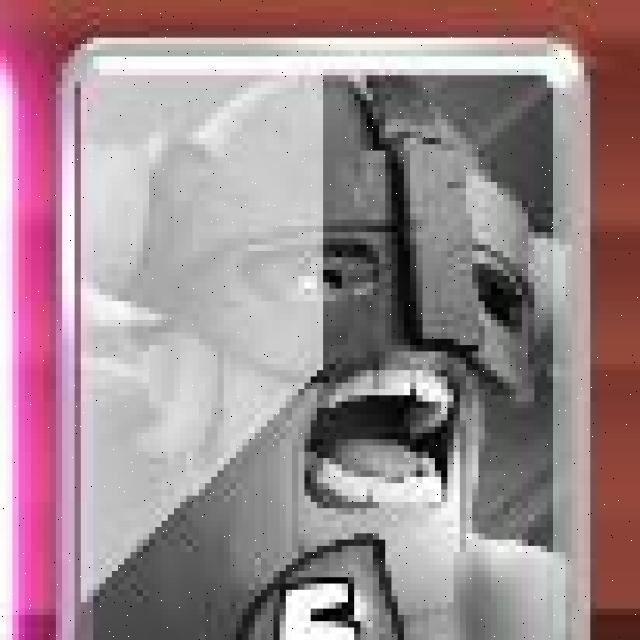Elite_Barbarians: (55, 36, 597, 640)
